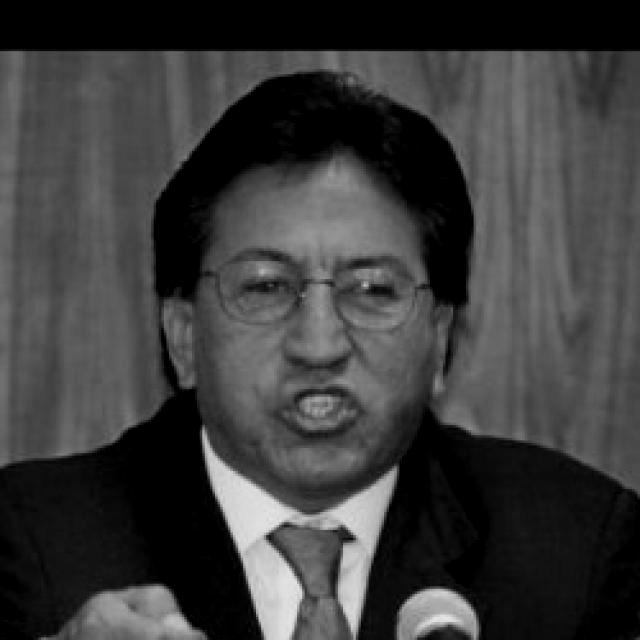real: (184, 116, 448, 494), (225, 260, 403, 319)
